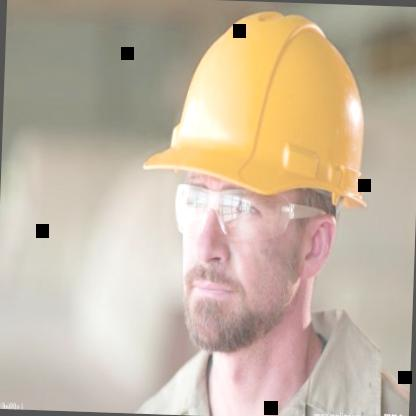helmet: (124, 0, 385, 385)
